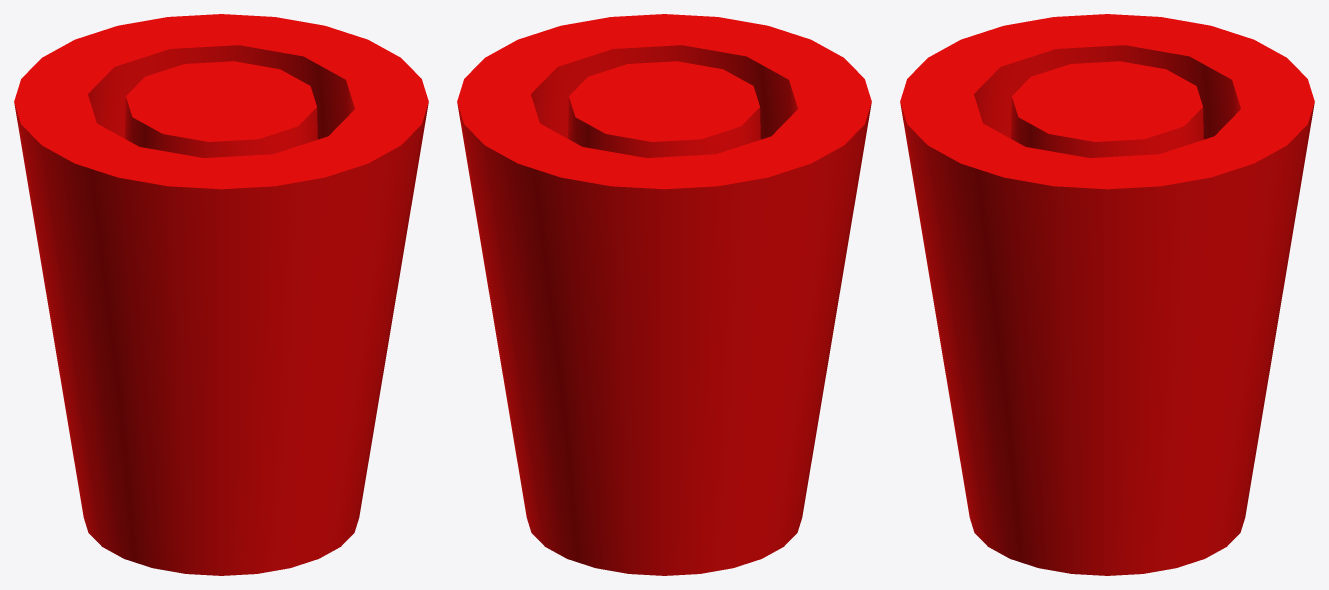
The model's file is pawnred.FBX.
3 renders of one model, left to right at view 1: azimuth 30°, elevation 25°; view 2: azimuth 150°, elevation 25°; view 3: azimuth 270°, elevation 25°, orthographic.
Parts seen in each view (by area): view 1: Cone01; view 2: Cone01; view 3: Cone01.
Boxes of the visible parts, x1,y1,x2,y2 form: Cone01: [14, 14, 428, 575]; Cone01: [457, 14, 871, 575]; Cone01: [900, 14, 1314, 575].
Bounding box in the file's own units: 0.4516 × 0.5 × 0.4516.
